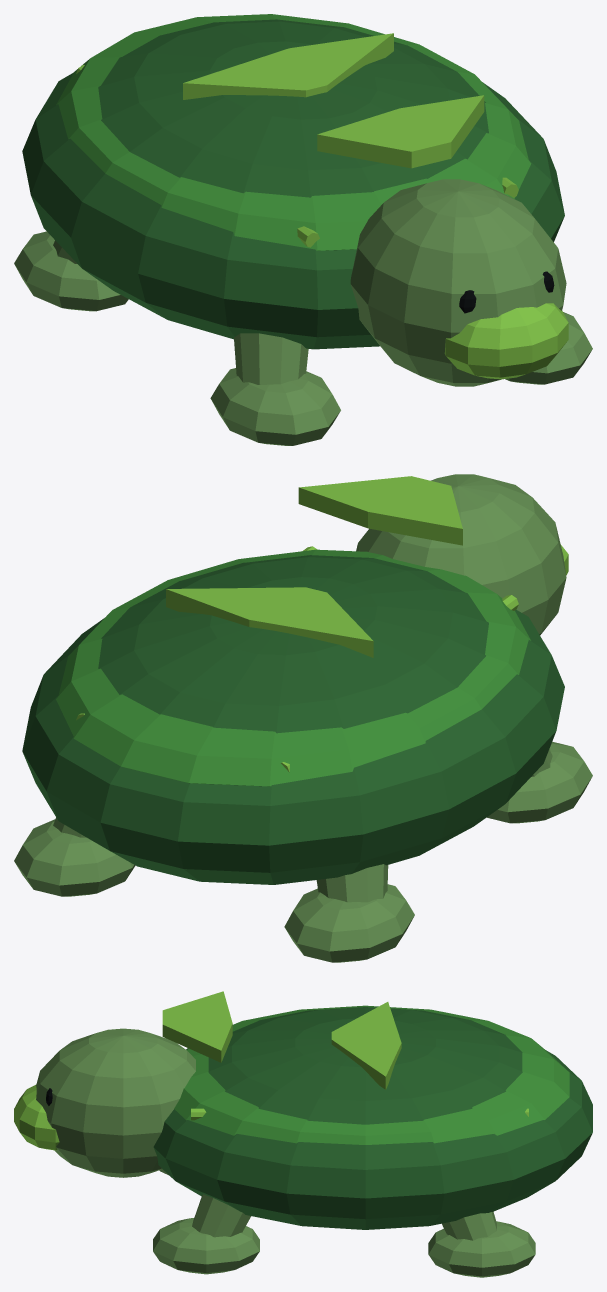
File: MagicForestTurtle.obj
3 views of the same model, one above another, from view 1: azimuth 30°, elevation 25°; view 2: azimuth 150°, elevation 25°; view 3: azimuth 270°, elevation 25° (orthographic). The views are drawn at different scales.
Visible parts, largest first — view 1: Shell, Head, ShellTop, LeafCrest, LeafBack, Foot_-0.95_-1.25, Muzzle, Foot_-1.02_1.08, Leg_-0.95_-1.25, Foot_0.95_-1.25; view 2: Shell, ShellTop, Head, LeafBack, LeafCrest, Foot_-1.02_1.08, Foot_1.02_1.08, Foot_-0.95_-1.25, Leg_-1.02_1.08; view 3: Shell, Head, ShellTop, Foot_1.02_1.08, Foot_0.95_-1.25, LeafBack, LeafCrest, Muzzle, Leg_0.95_-1.25, Leg_1.02_1.08.
Boxes of the visible parts, x1,y1,x2,y2 form: Shell: (22, 19, 564, 349); Head: (350, 179, 566, 386); ShellTop: (56, 14, 531, 250); LeafCrest: (317, 95, 484, 168); LeafBack: (183, 33, 393, 99); Foot_-0.95_-1.25: (210, 368, 340, 445); Muzzle: (444, 303, 568, 379); Foot_-1.02_1.08: (14, 231, 128, 311); Leg_-0.95_-1.25: (234, 333, 308, 384); Foot_0.95_-1.25: (505, 312, 592, 384); Shell: (22, 555, 564, 884); ShellTop: (56, 549, 530, 786); Head: (356, 474, 566, 635); LeafBack: (166, 587, 373, 657); LeafCrest: (298, 476, 462, 545); Foot_-1.02_1.08: (284, 884, 414, 962); Foot_1.02_1.08: (14, 819, 135, 896); Foot_-0.95_-1.25: (487, 741, 592, 823); Leg_-1.02_1.08: (316, 864, 388, 902); Shell: (153, 1007, 592, 1229); Head: (36, 1028, 195, 1177); ShellTop: (174, 1005, 569, 1144); Foot_1.02_1.08: (428, 1221, 535, 1277); Foot_0.95_-1.25: (153, 1218, 259, 1274); LeafBack: (331, 1002, 401, 1089); LeafCrest: (162, 991, 232, 1062); Muzzle: (14, 1085, 59, 1150); Leg_0.95_-1.25: (192, 1194, 251, 1237); Leg_1.02_1.08: (442, 1211, 496, 1240).
Size of the model in its own units: 3.36 by 2.01 by 5.14.
